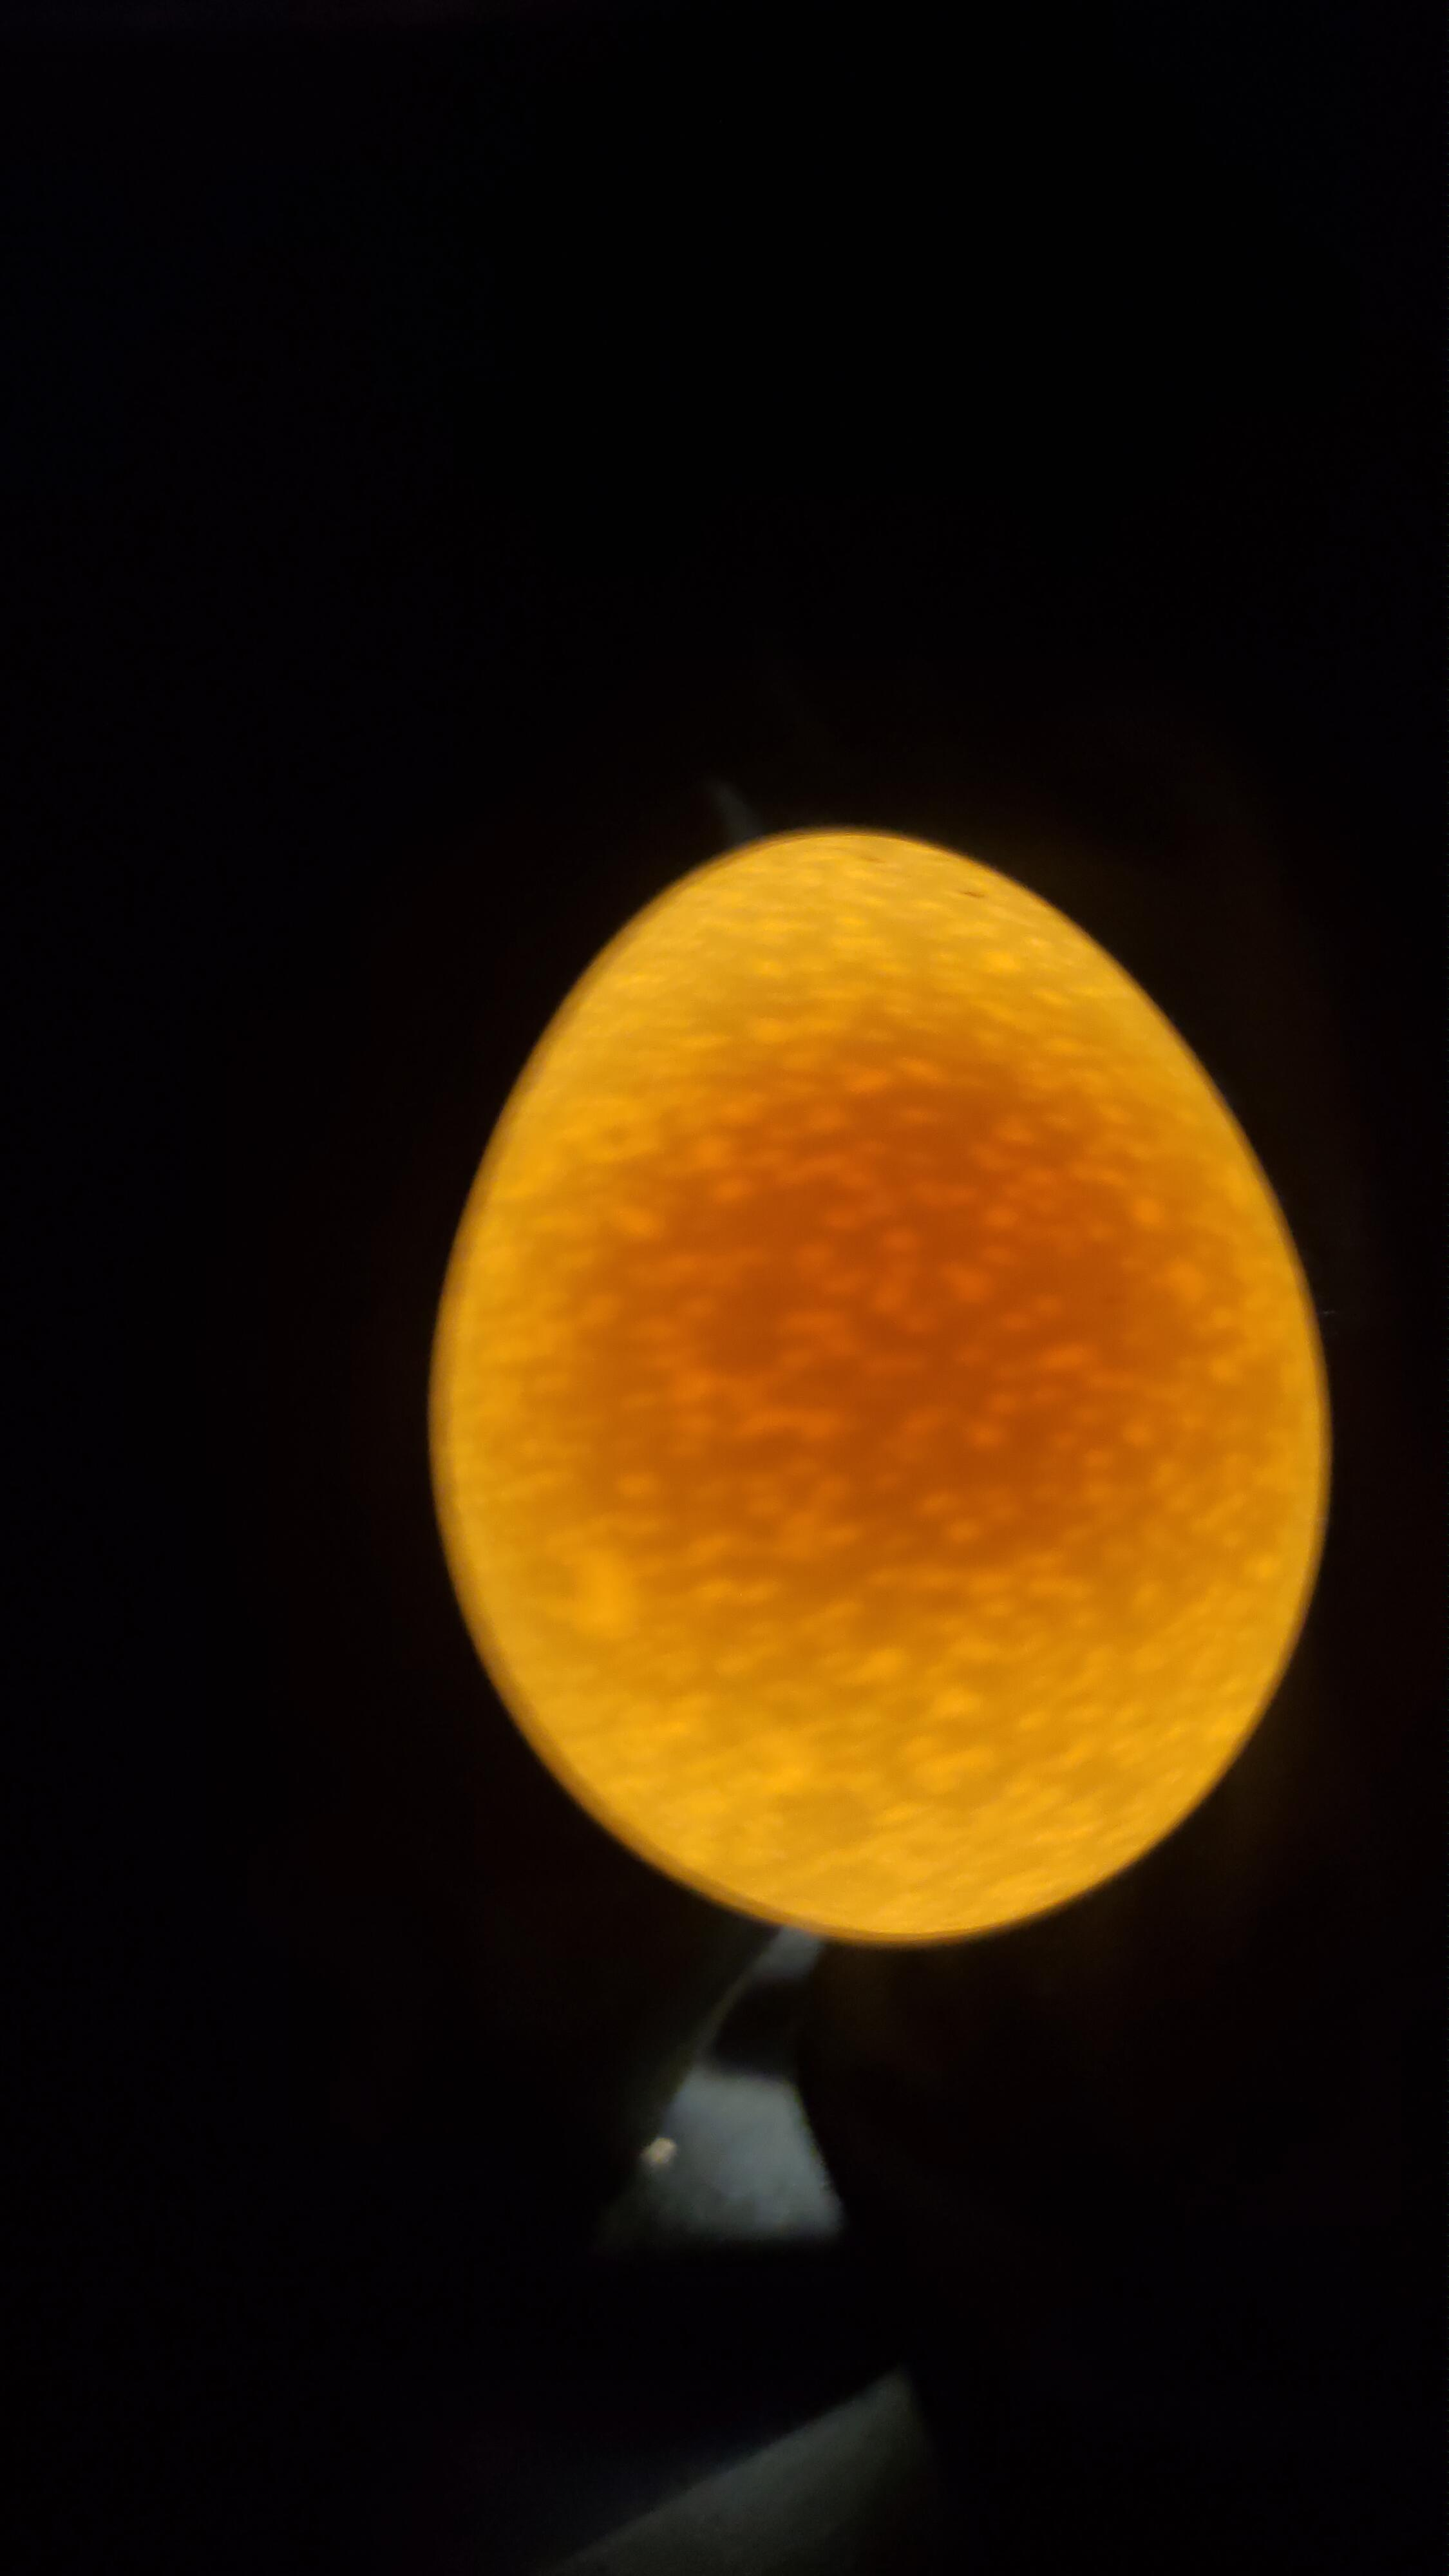A - Good: (432, 805, 1346, 1990)
